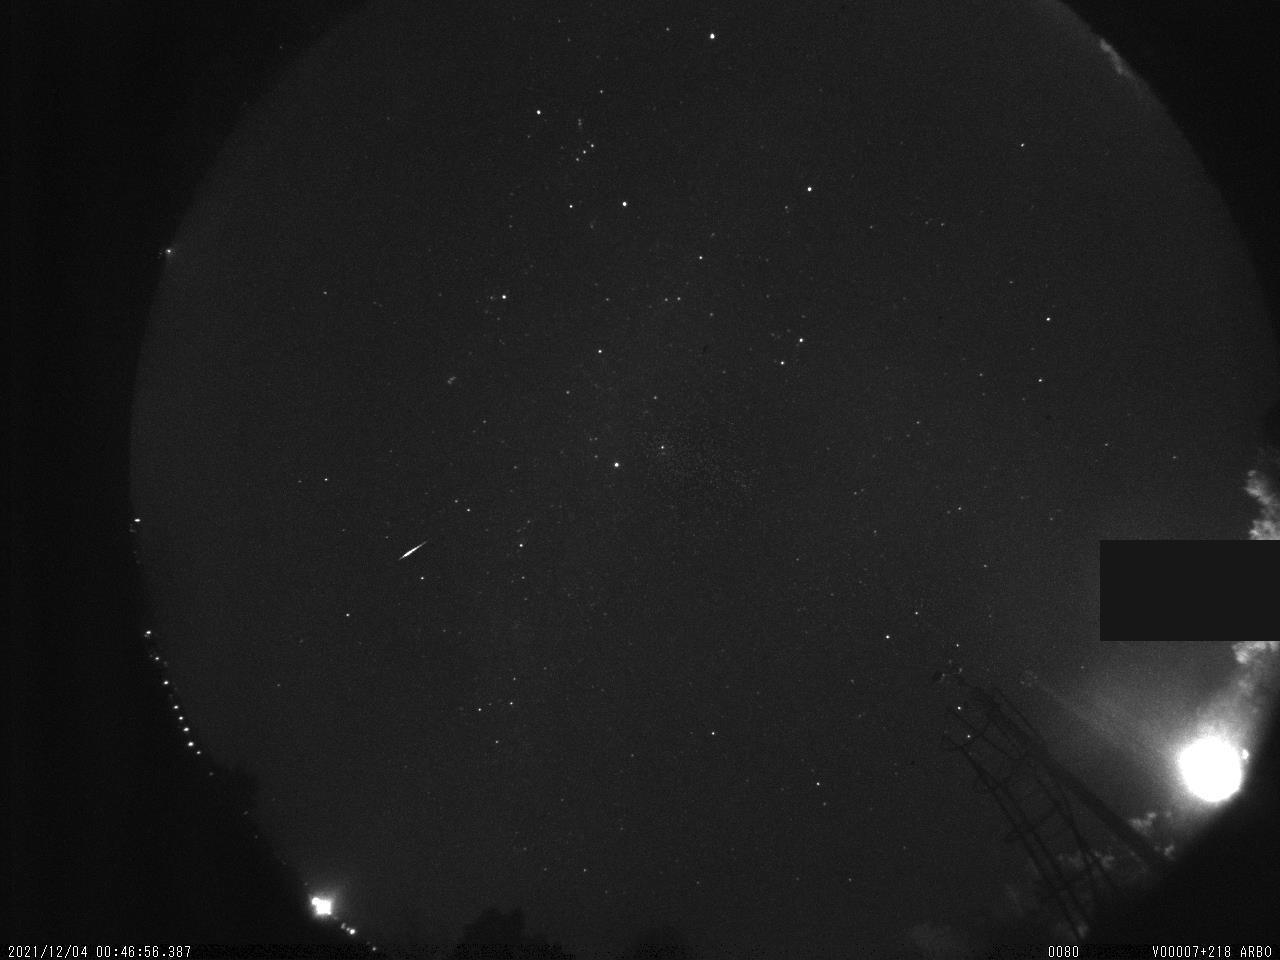Meteor: (395, 536, 433, 565)
